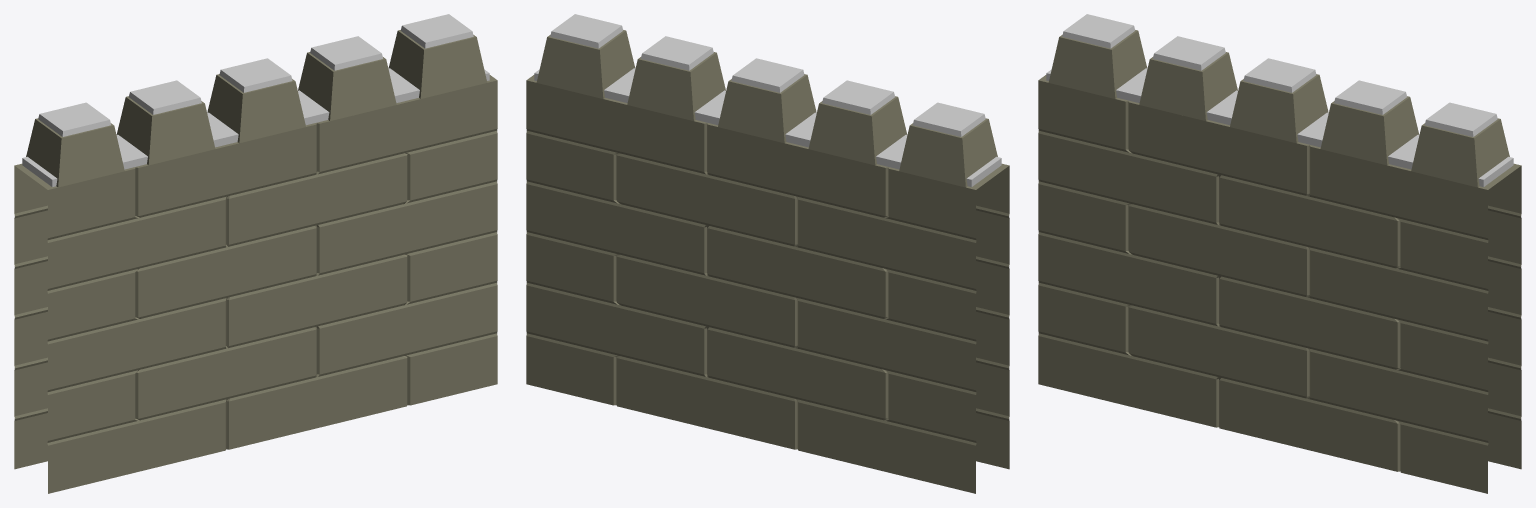
File: Wall_snow_mat.fbx
The picture shows the model from 3 angles, left to right: view 1: azimuth 30°, elevation 25°; view 2: azimuth 150°, elevation 25°; view 3: azimuth 330°, elevation 25°; orthographic projection.
Visible parts, largest first — view 1: Wall_snow_mat; view 2: Wall_snow_mat; view 3: Wall_snow_mat.
Boxes of the visible parts, x1,y1,x2,y2 form: Wall_snow_mat: (14,14,497,493); Wall_snow_mat: (526,14,1009,493); Wall_snow_mat: (1038,14,1521,493).
Bounding box in the file's own units: 411 × 309 × 53.08.
